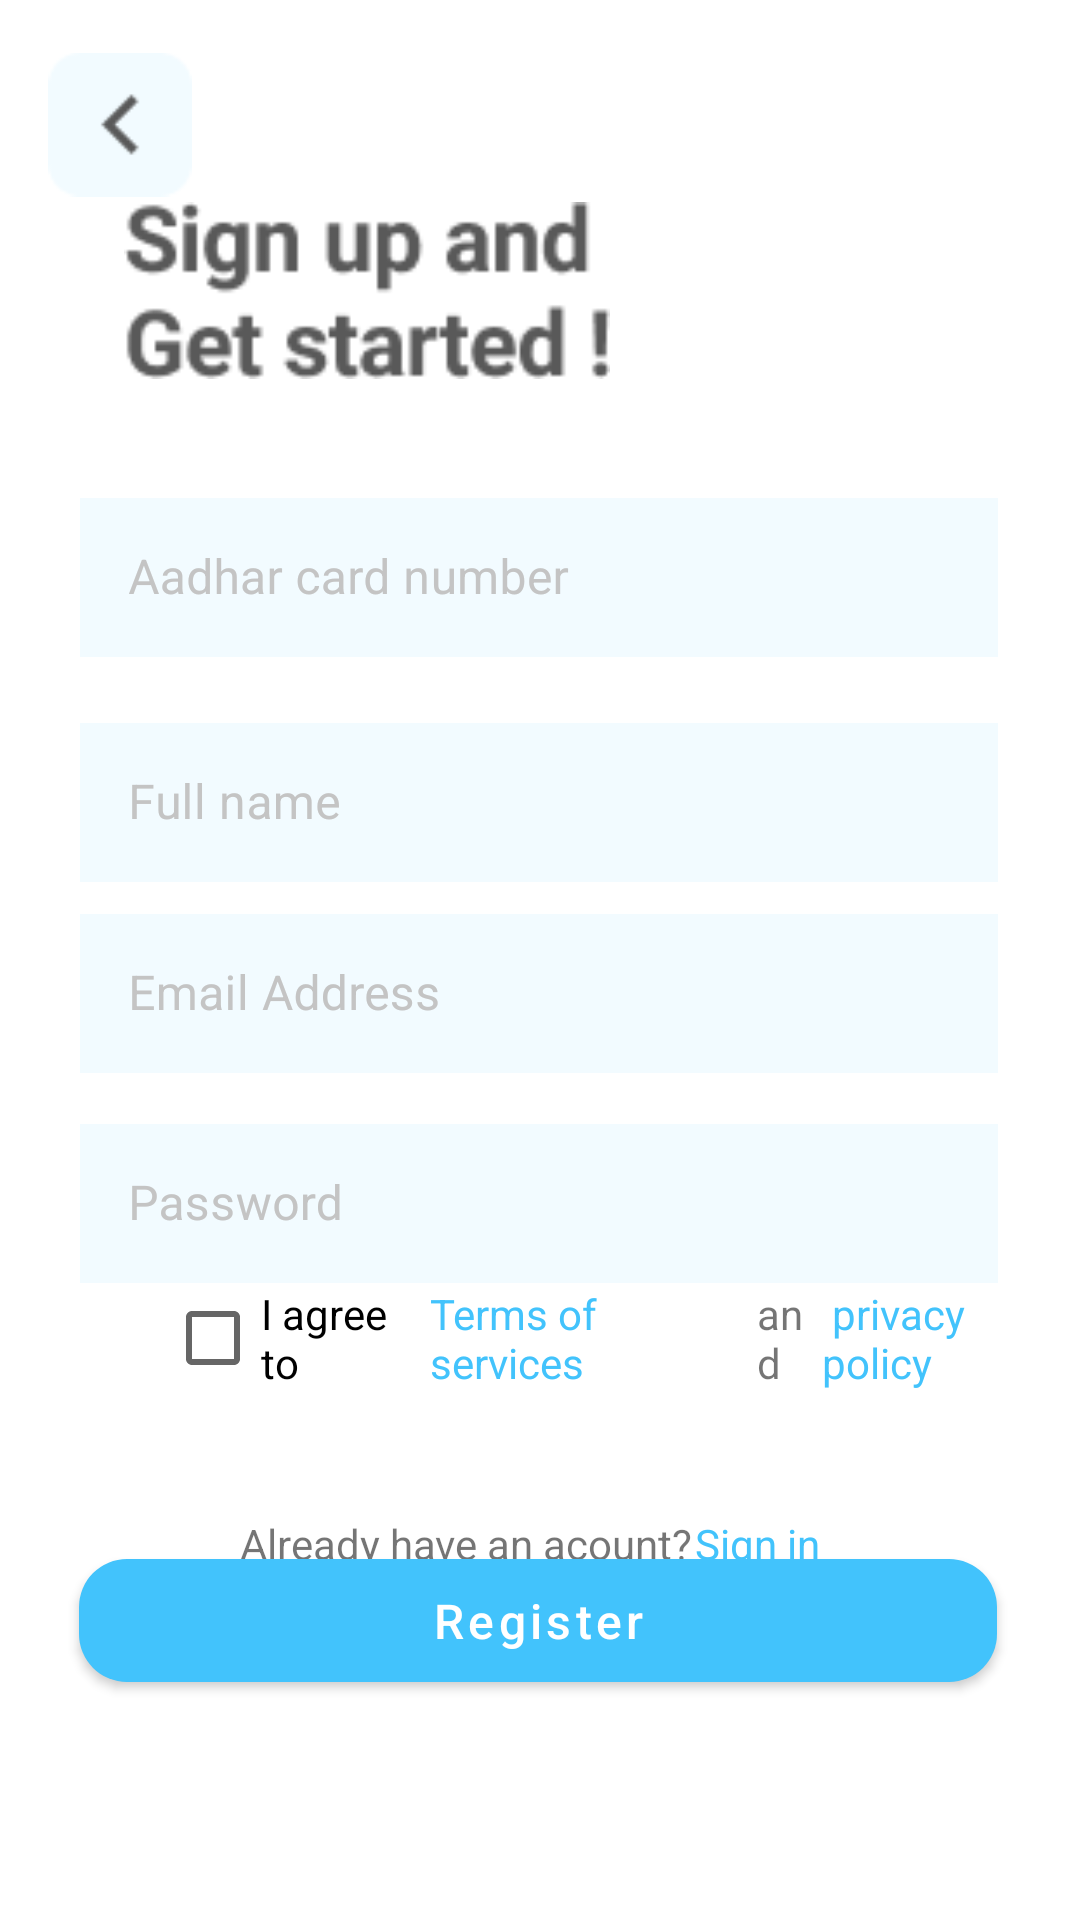

Locate icon controls on the screen. Image size 1080×1920, boxes as (x1, y1, x2, y2).
back: (48, 53, 192, 197)
